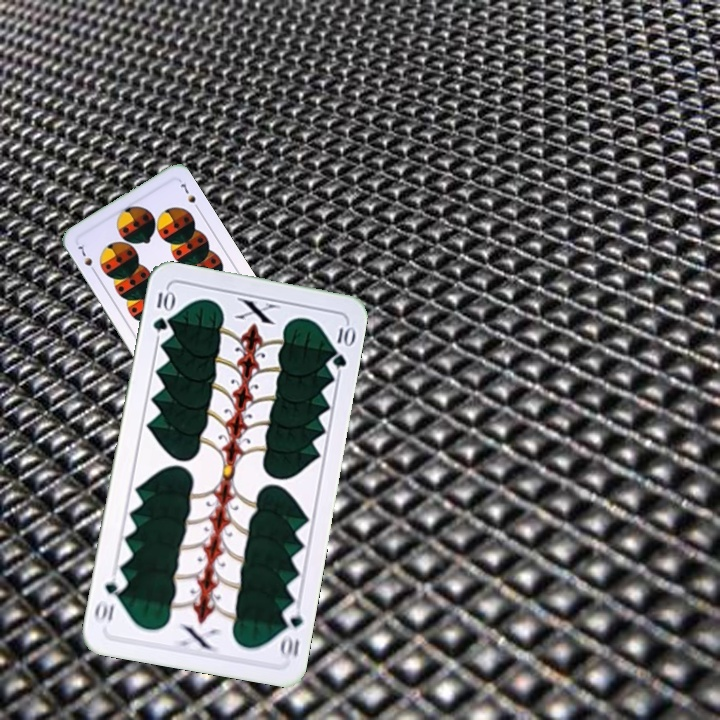G10: (276, 601, 306, 662), (149, 285, 175, 334)
S7: (72, 239, 99, 277)
